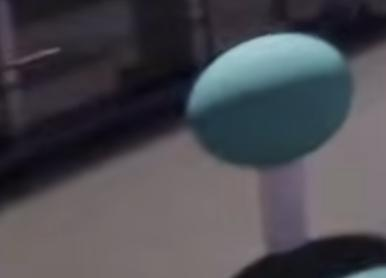algae: (186, 33, 354, 169)
coral: (259, 159, 307, 253)
